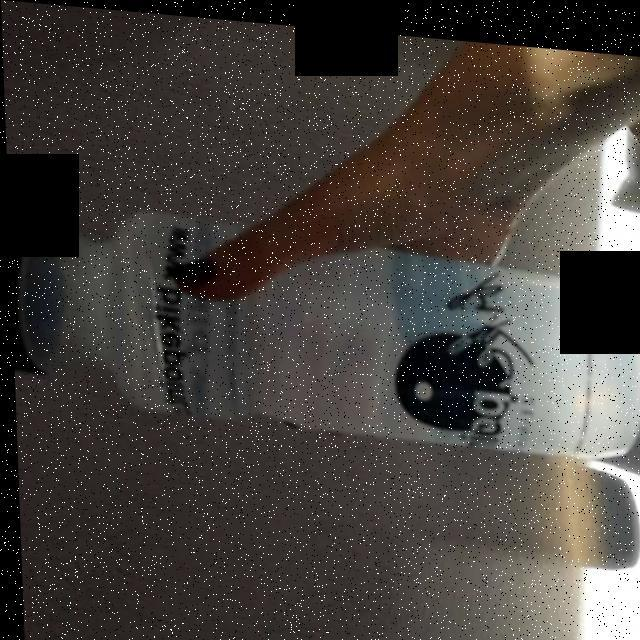water: (34, 215, 622, 443)
